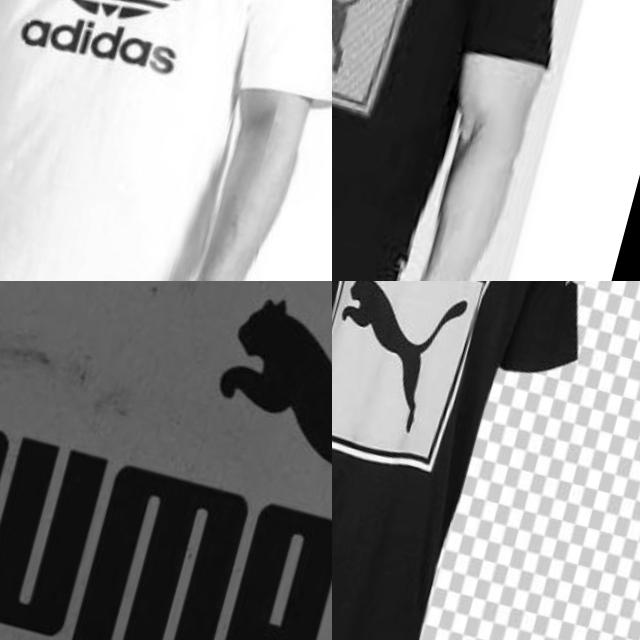ADIDAS_original: (0, 0, 241, 109), (2, 0, 198, 110), (17, 0, 233, 50)
PUMA_original: (0, 281, 332, 640), (332, 281, 475, 458), (332, 0, 440, 104)
